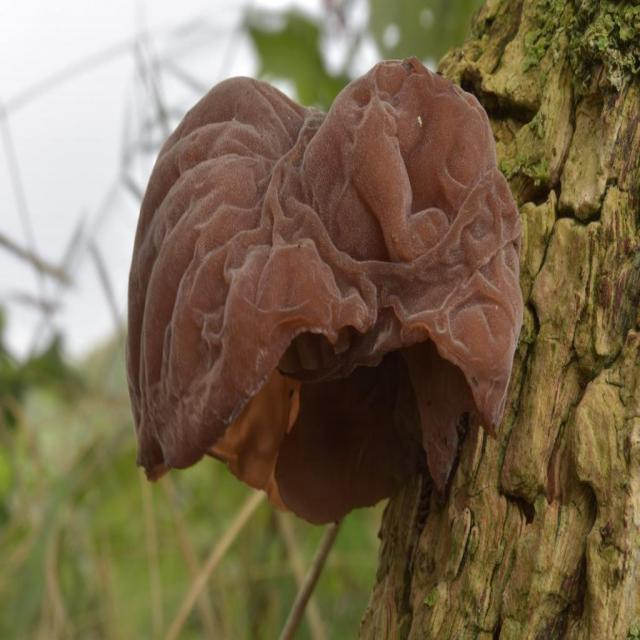Auricularia auricula: (126, 61, 523, 531)
